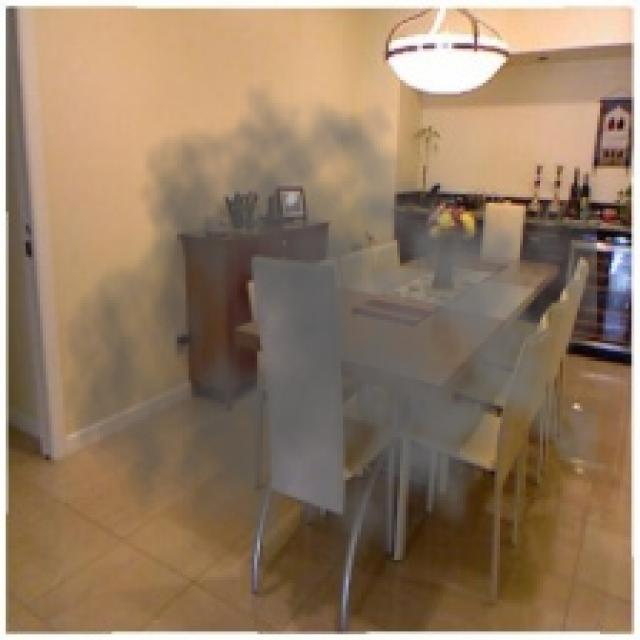smoke: (63, 80, 597, 614)
